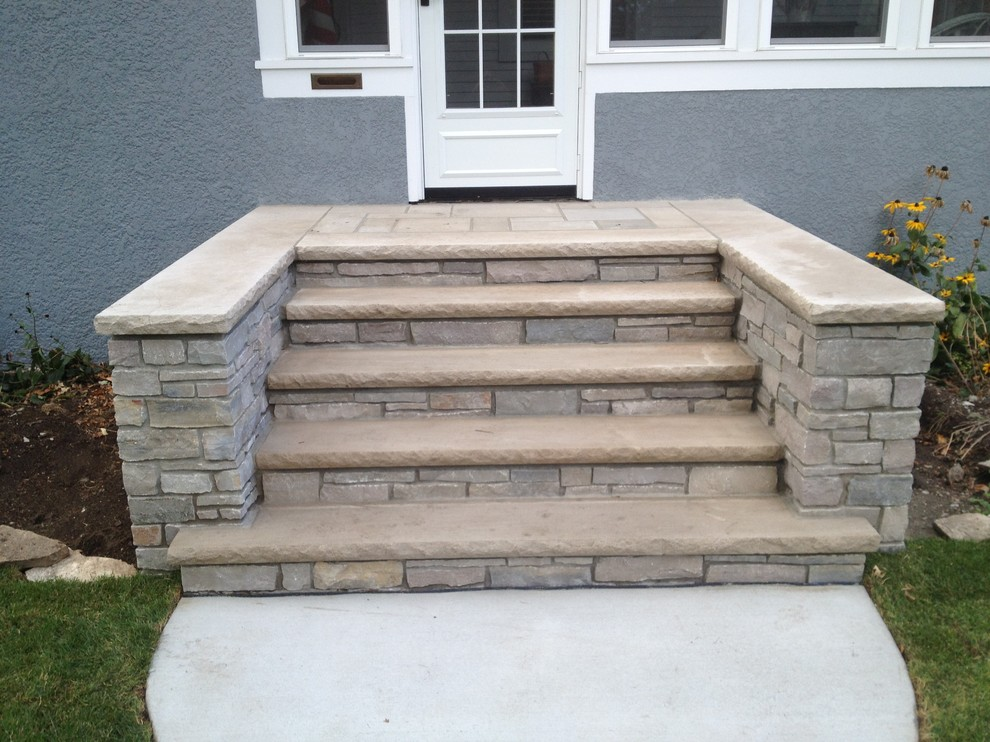upstairs: (302, 230, 724, 612)
